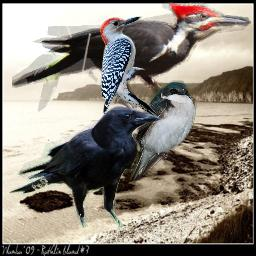Crow: (9, 106, 163, 227)
Swallow: (118, 78, 198, 184)
Woodpecker: (12, 2, 251, 118), (95, 12, 162, 124)
